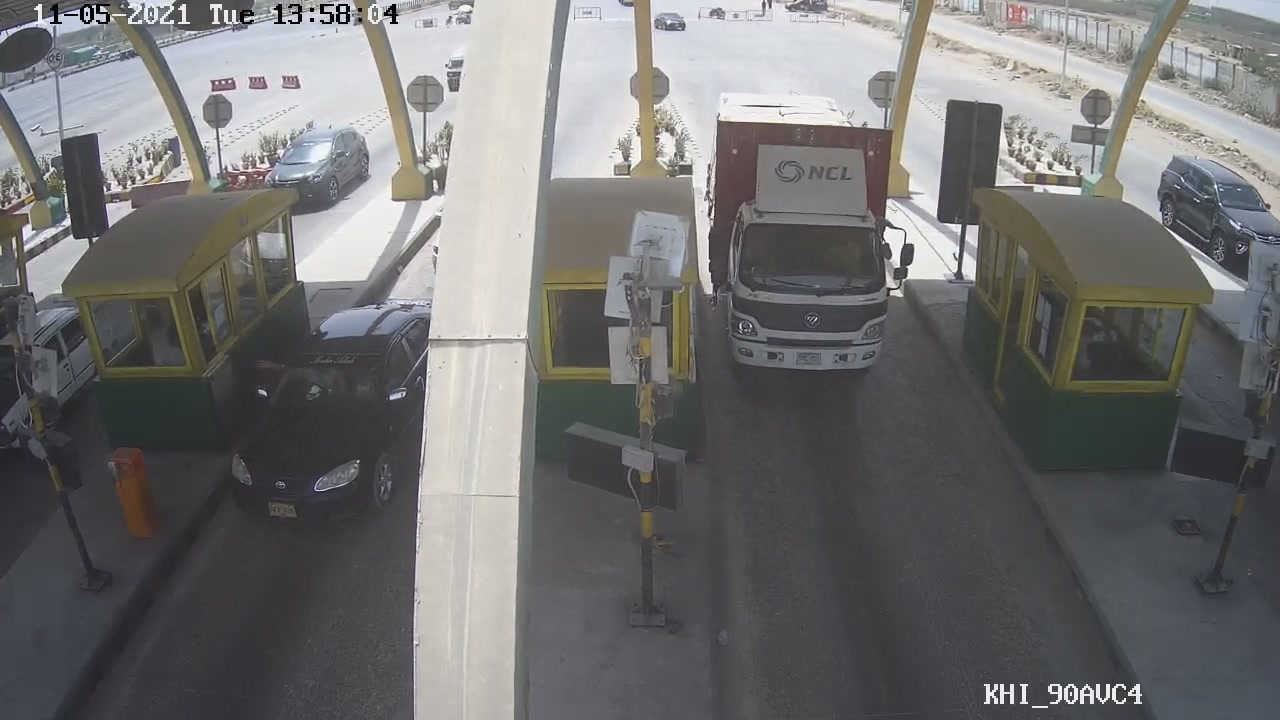F6: (694, 74, 907, 385)
